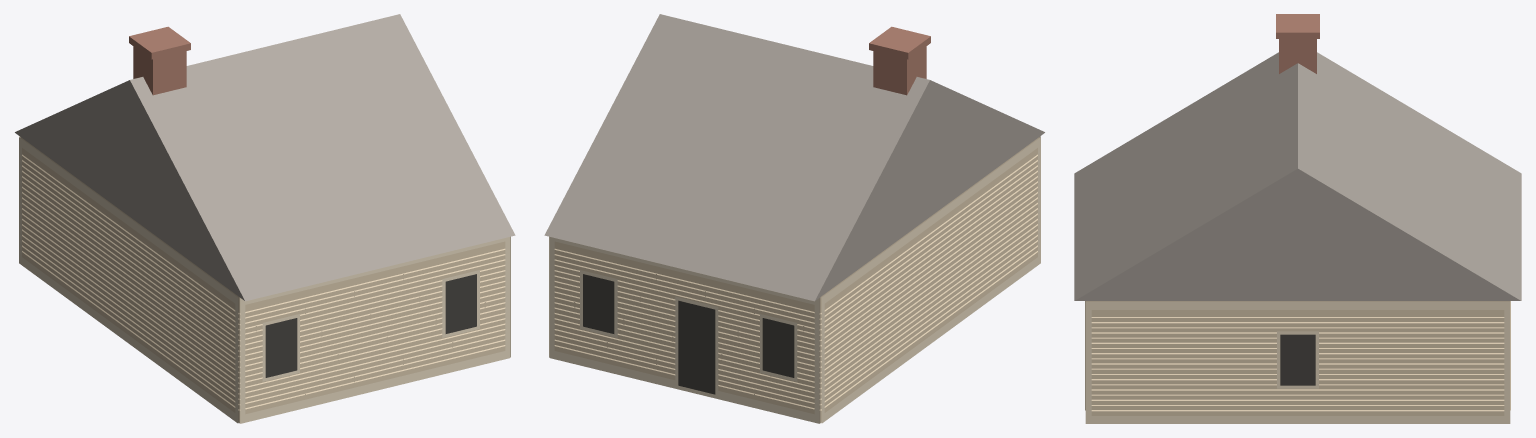
Rendered from recon_1835_blk_randolph_market_d5_11__inferred_1835.glb.
3 renders of one model, left to right at view 1: azimuth 30°, elevation 25°; view 2: azimuth 150°, elevation 25°; view 3: azimuth 270°, elevation 25°, orthographic. The views are drawn at different scales.
Parts seen in each view (by area): view 1: recon_1835_blk_randolph_market_d5_11__inferred_1835; view 2: recon_1835_blk_randolph_market_d5_11__inferred_1835; view 3: recon_1835_blk_randolph_market_d5_11__inferred_1835.
Boxes of the visible parts, box(x1,y1,x2,y2) form: recon_1835_blk_randolph_market_d5_11__inferred_1835: box(15, 14, 515, 423); recon_1835_blk_randolph_market_d5_11__inferred_1835: box(544, 14, 1044, 423); recon_1835_blk_randolph_market_d5_11__inferred_1835: box(1074, 14, 1521, 423).
Bounding box in the file's own units: 6.8 × 7.03 × 9.94.
